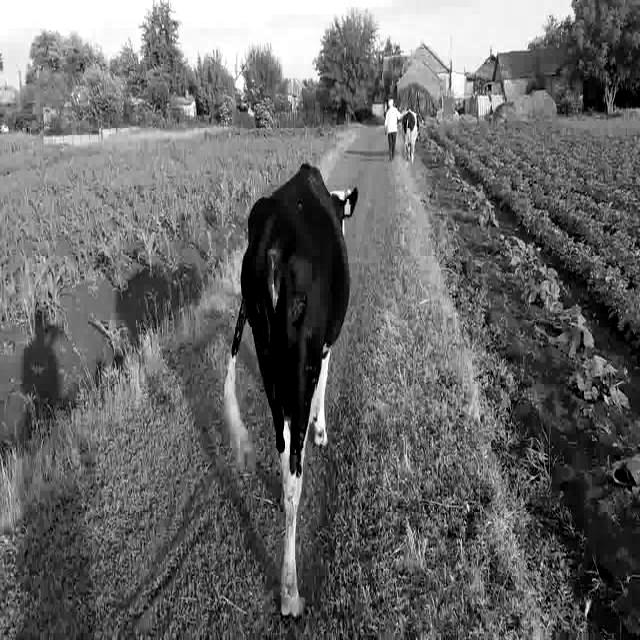COW: (224, 164, 358, 617)
